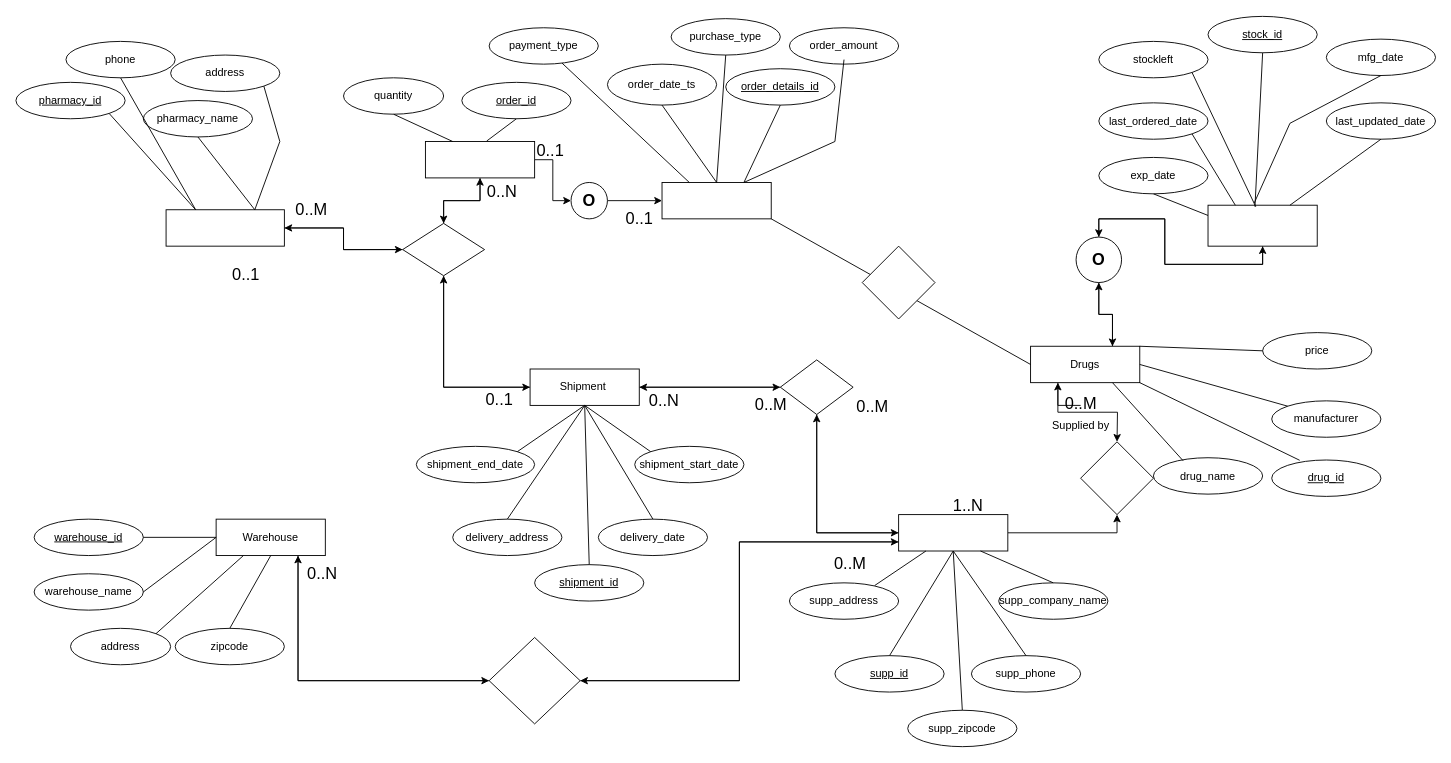
This 1451x763 diagram has some shape labels left out. Each missing label, with the centre of its shape:
"contains" belongs at point (898, 282).
"Order" belongs at point (480, 159).
"Order Details" belongs at point (716, 200).
"orders products" belongs at point (443, 249).
"Pharmacy" belongs at point (224, 227).
"Ships drugs" belongs at point (816, 387).
"Stocks" belongs at point (1262, 225).
"Suppliers" belongs at point (953, 532).
"supplies" belongs at point (1116, 478).
"Supplies drugs" belongs at point (534, 680).
